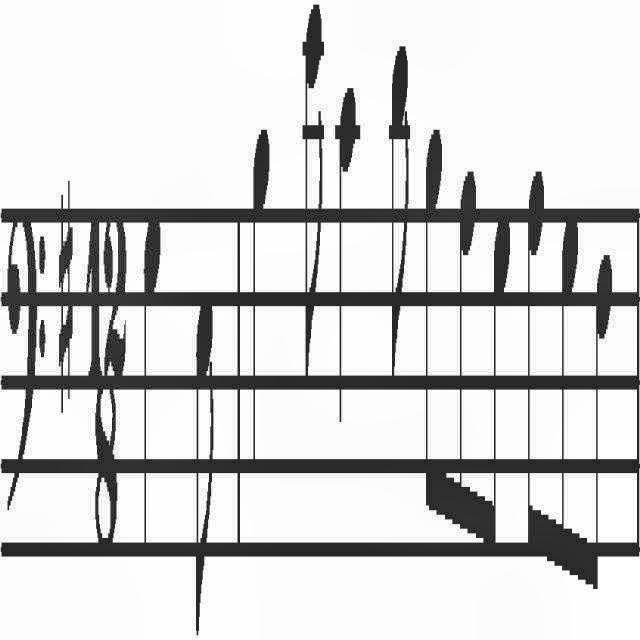Diez: (53, 165, 81, 418)
Eighth-note: (524, 128, 550, 614), (296, 0, 328, 392), (588, 210, 620, 590), (450, 133, 478, 564), (421, 98, 444, 590), (555, 186, 581, 606), (188, 278, 218, 630), (385, 10, 411, 410), (488, 185, 512, 590)
Quarter-note: (242, 46, 270, 508), (140, 206, 167, 542), (334, 78, 362, 402)
